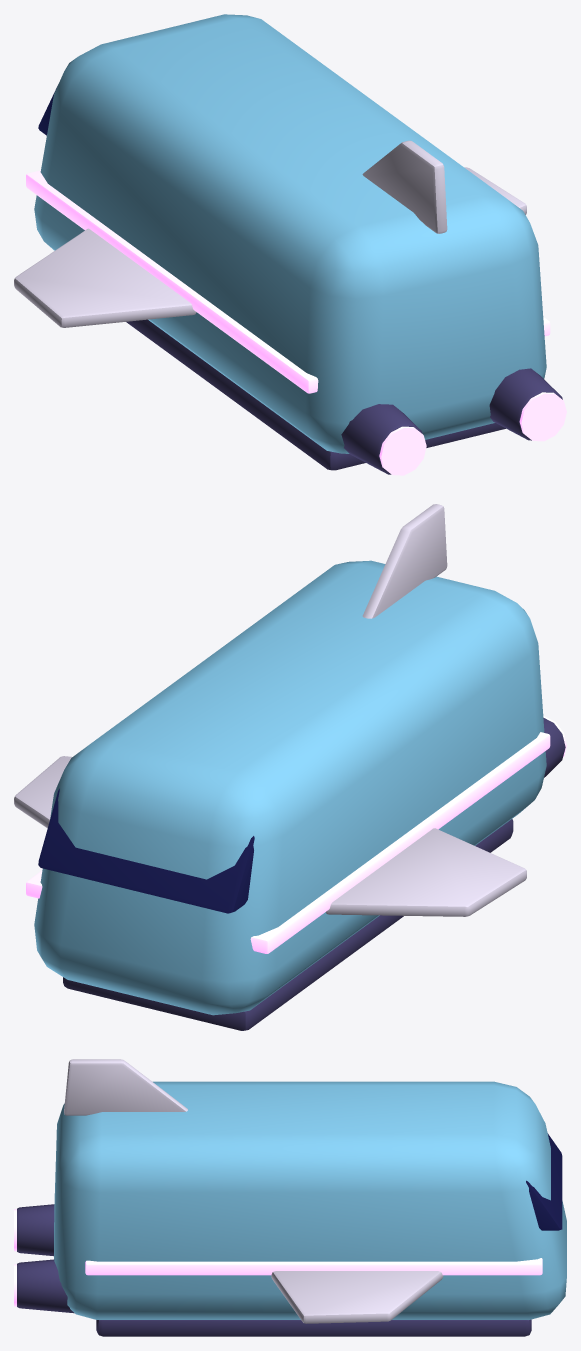
The model's file is sky_van.glb.
3 renders of one model, top to bottom at view 1: azimuth 30°, elevation 25°; view 2: azimuth 150°, elevation 25°; view 3: azimuth 270°, elevation 25°, orthographic. The views are drawn at different scales.
Visible parts, largest first — view 1: Body; view 2: Body; view 3: Body.
Part boxes in pixels (x1,y1,x2,y2): Body: (14,14,566,475); Body: (14,504,566,1030); Body: (14,1059,566,1336).
Bounding box in the file's own units: 4 × 2.45 × 5.08.
